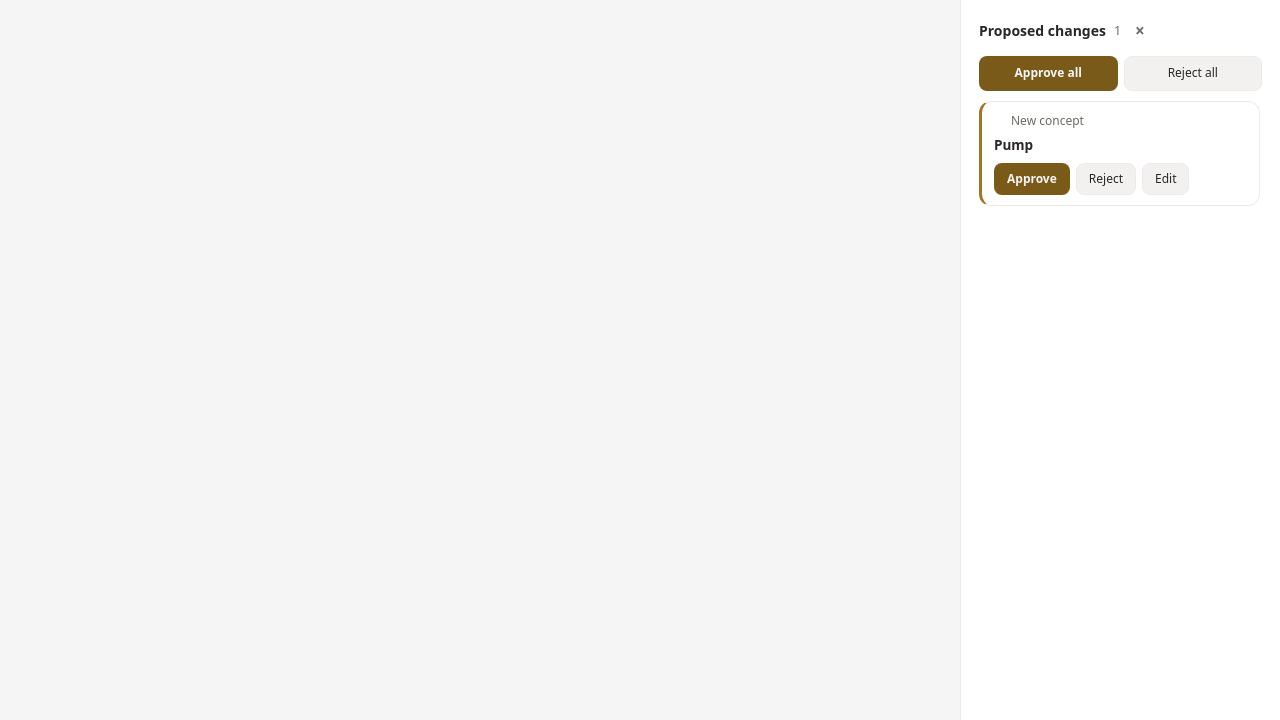
Test: destructive rejects › Cancel on Reject all rejects nothing
Click the button with id "rejectAll" at (1193, 74), box [1124, 56, 1262, 91]
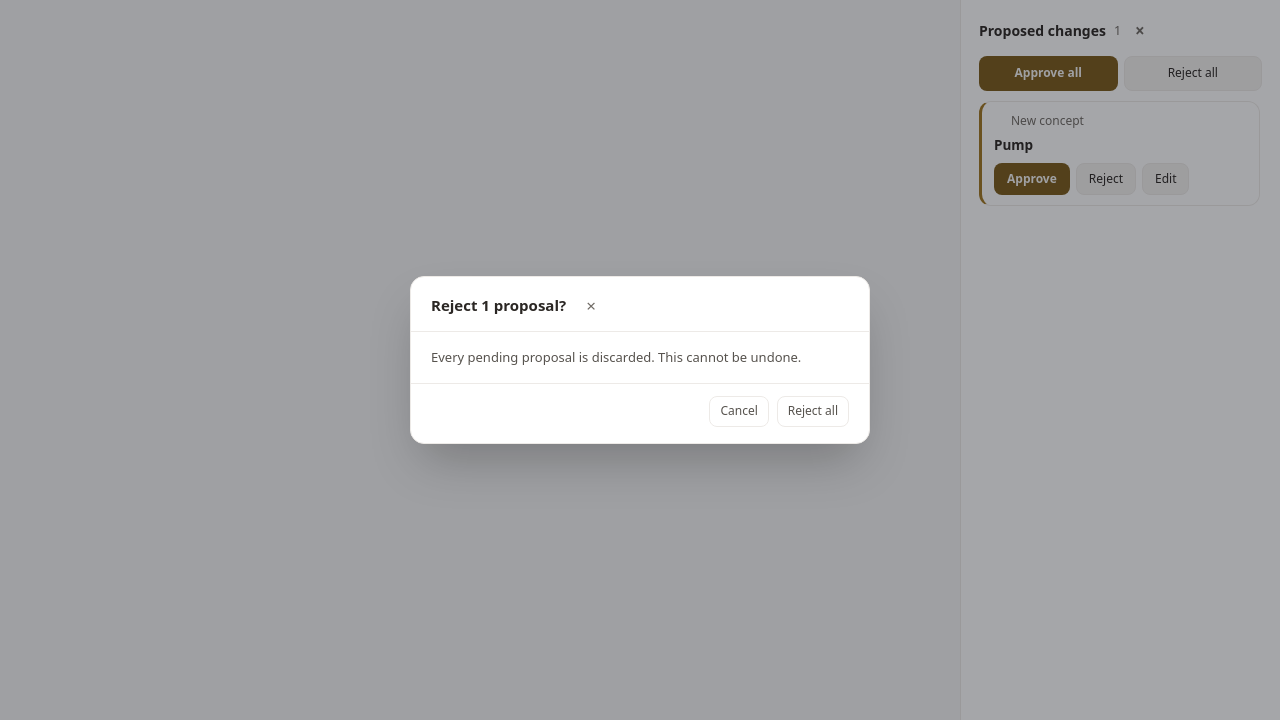
Expected: the text "Reject 1 proposal?" is shown, [431, 294, 566, 318]
Click the button "Cancel" at (739, 412), box [709, 396, 769, 427]
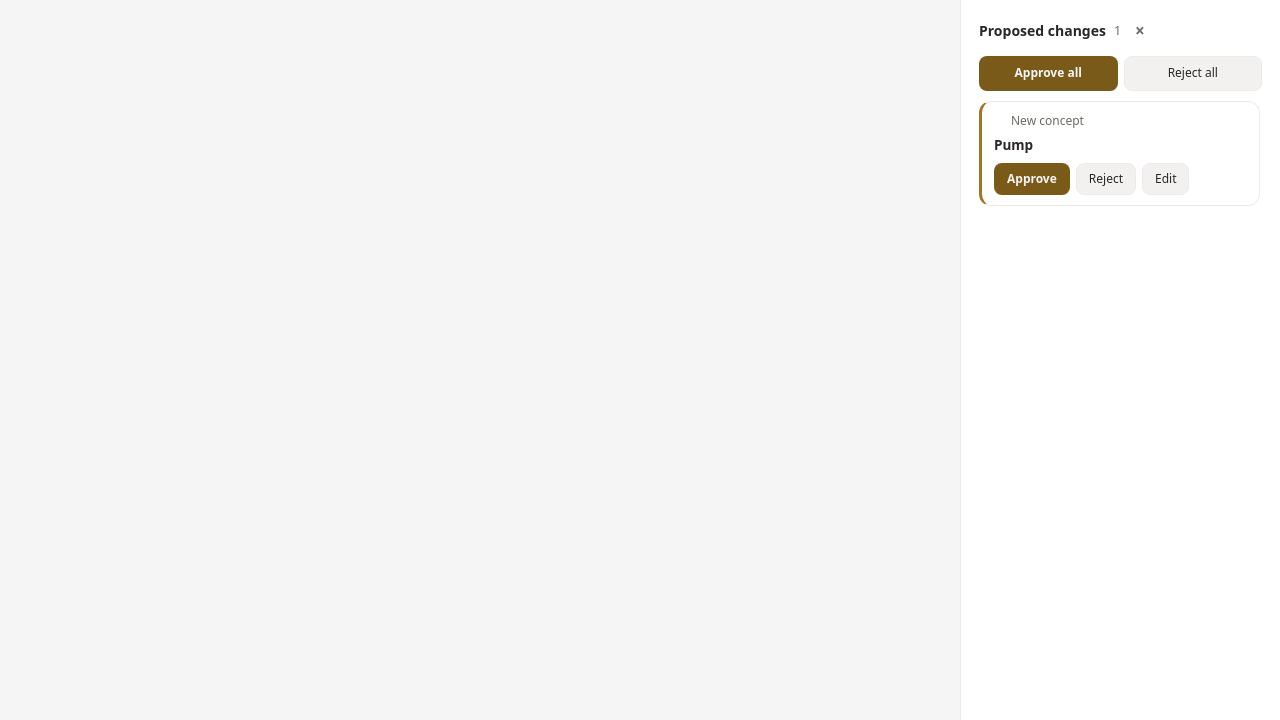
Expected: the dialog with class "dlg" is gone
